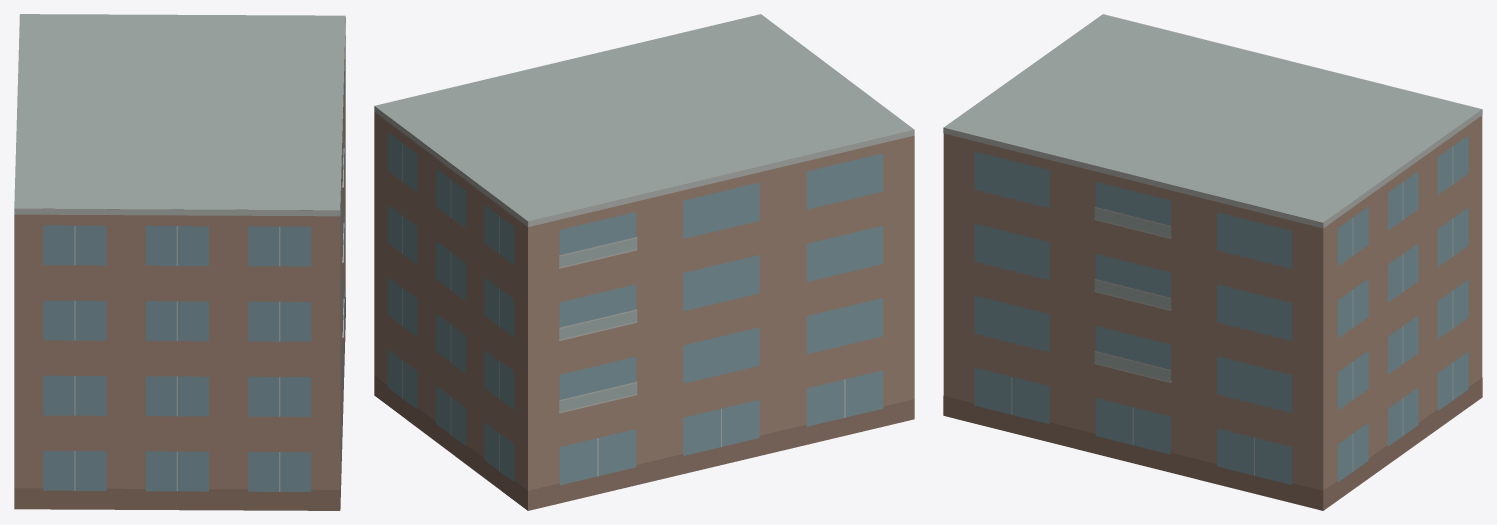
The model's file is residential-9921c639-9162-4619-bdc8-781562098891.glb.
The picture shows the model from 3 angles, left to right: view 1: azimuth 30°, elevation 25°; view 2: azimuth 150°, elevation 25°; view 3: azimuth 270°, elevation 25°; orthographic projection. The views are drawn at different scales.
Visible parts, largest first — view 1: residential-9921c639-9162-4619-bdc8-781562098891.tmp; view 2: residential-9921c639-9162-4619-bdc8-781562098891.tmp; view 3: residential-9921c639-9162-4619-bdc8-781562098891.tmp.
Boxes of the visible parts, x1=… form: residential-9921c639-9162-4619-bdc8-781562098891.tmp: x1=14, y1=14, x2=345, y2=510; residential-9921c639-9162-4619-bdc8-781562098891.tmp: x1=374, y1=14, x2=914, y2=510; residential-9921c639-9162-4619-bdc8-781562098891.tmp: x1=943, y1=14, x2=1482, y2=510.
Bounding box in the file's own units: 18.96 × 12.2 × 20.69.
